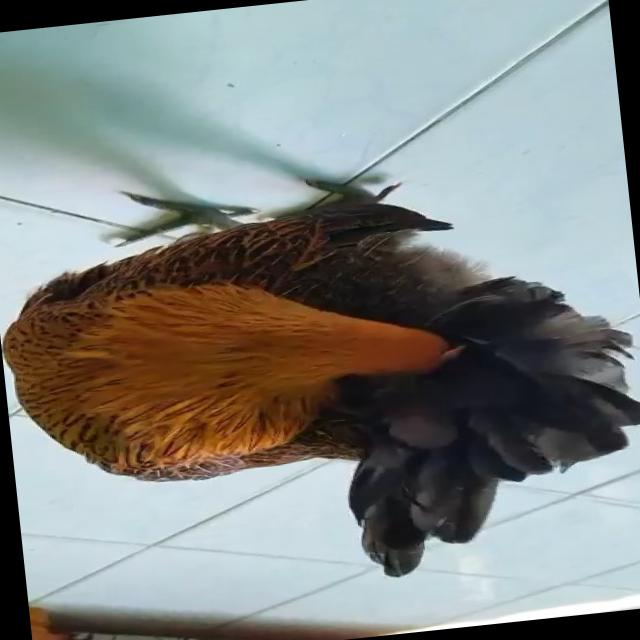self preening: (0, 137, 640, 614)
